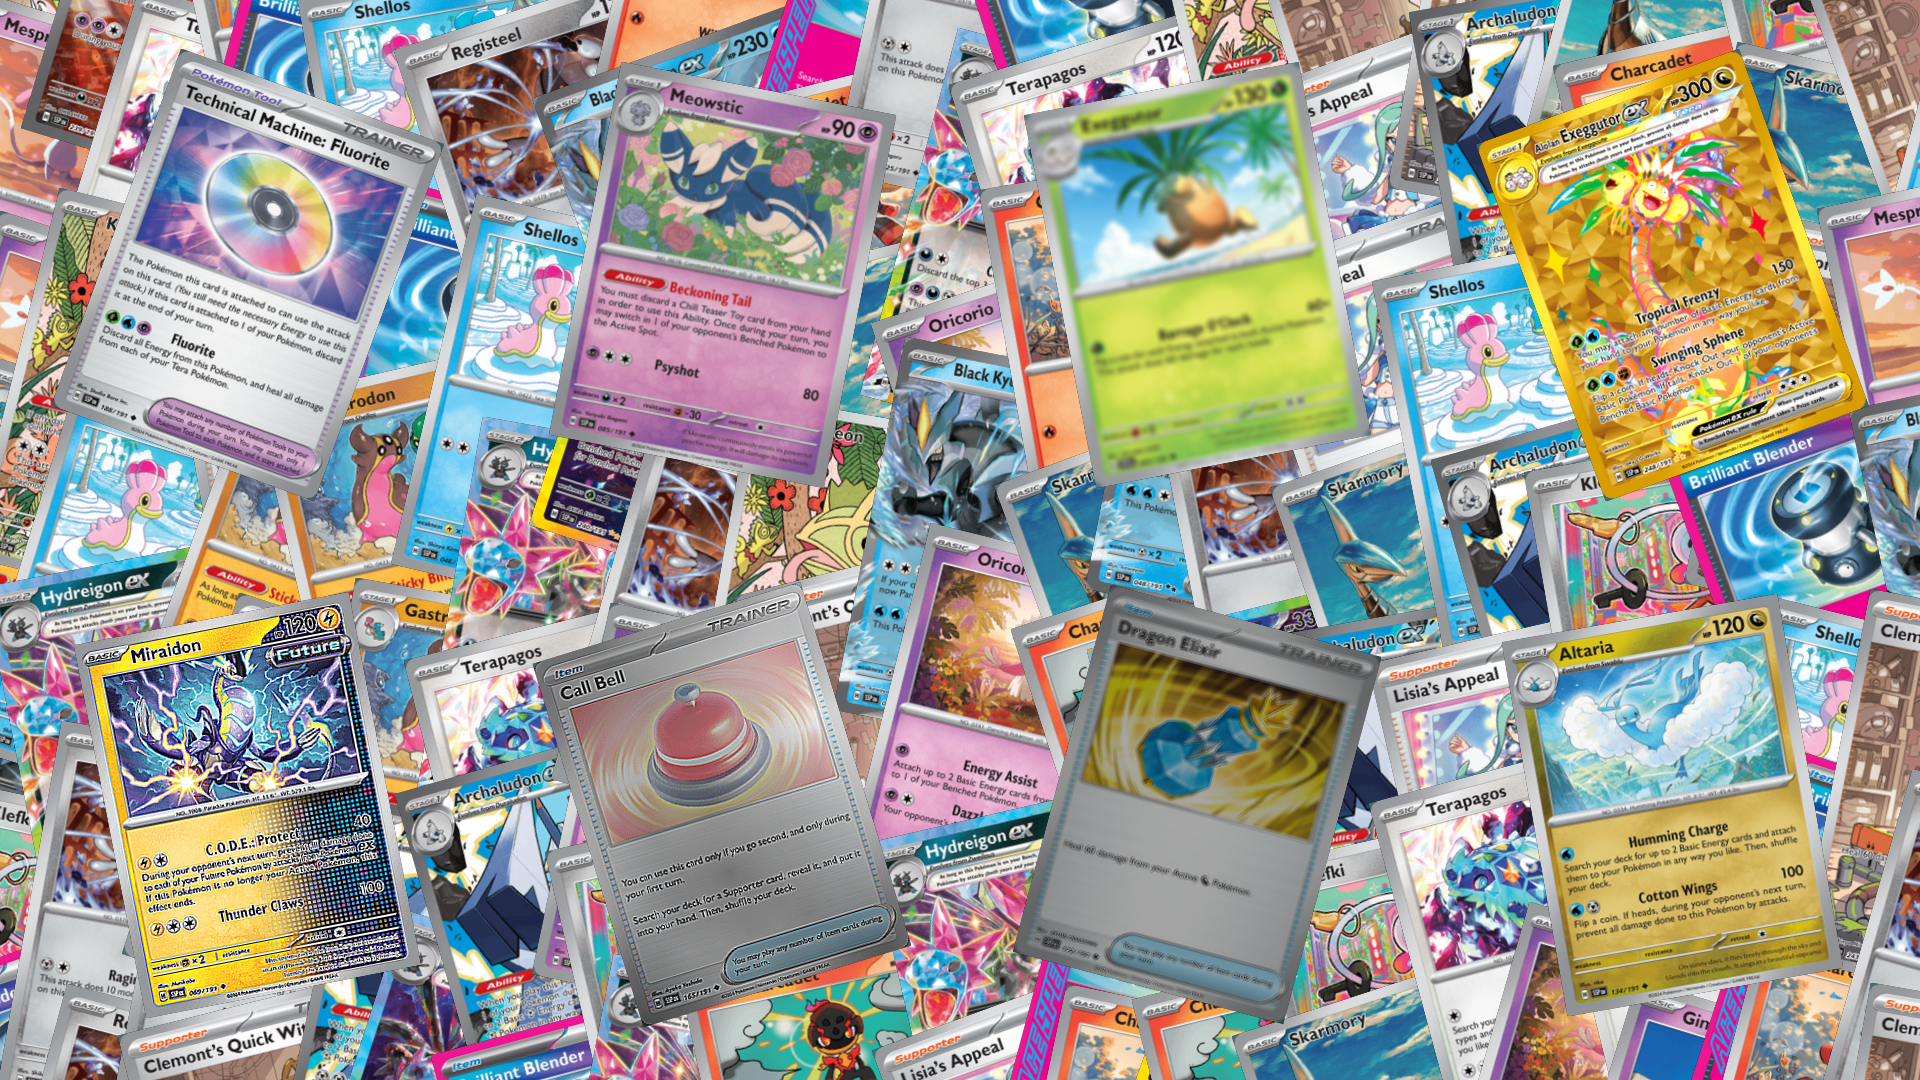Alolan_Exeggutor_ex: (1476, 47, 1869, 501)
Altaria: (1501, 593, 1844, 1015)
Call_Bell: (531, 582, 911, 1027)
Dragon_Elixir: (1011, 584, 1381, 1025)
Exeggutor: (1023, 61, 1371, 488)
Meowstic: (549, 61, 895, 488)
Miraidon: (73, 591, 421, 1018)
Technical_Machine:_Fluorite: (50, 47, 444, 501)
